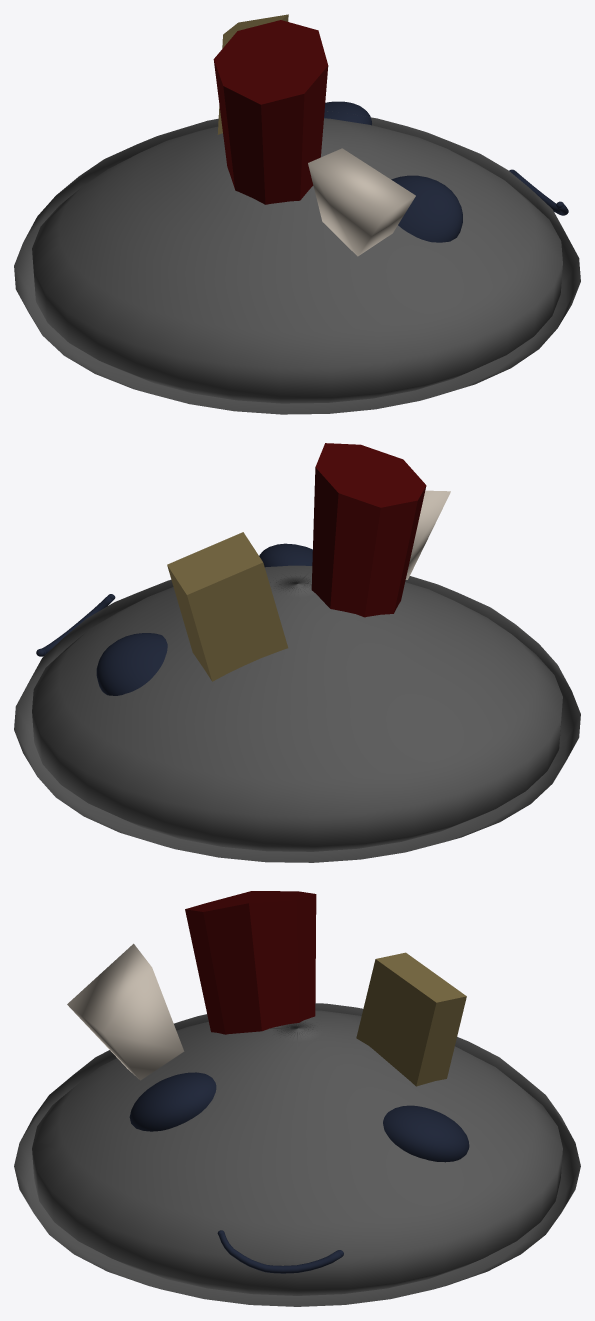
The model's file is SlimePlainRock.glb.
The picture shows the model from 3 angles, top to bottom: view 1: azimuth 30°, elevation 25°; view 2: azimuth 150°, elevation 25°; view 3: azimuth 270°, elevation 25°; orthographic projection.
Visible parts, largest first — view 1: InnerSkin; view 2: InnerSkin; view 3: InnerSkin.
Boxes of the visible parts, x1,y1,x2,y2 form: InnerSkin: [14, 14, 580, 414]; InnerSkin: [14, 443, 580, 862]; InnerSkin: [14, 891, 580, 1306].
Bounding box in the file's own units: 0.8942 × 0.5239 × 0.8899.
